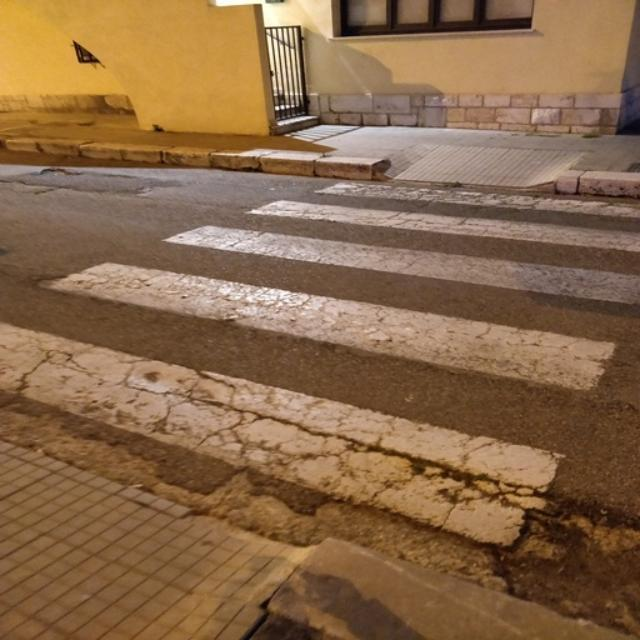sidewalk: (0, 176, 640, 545)
